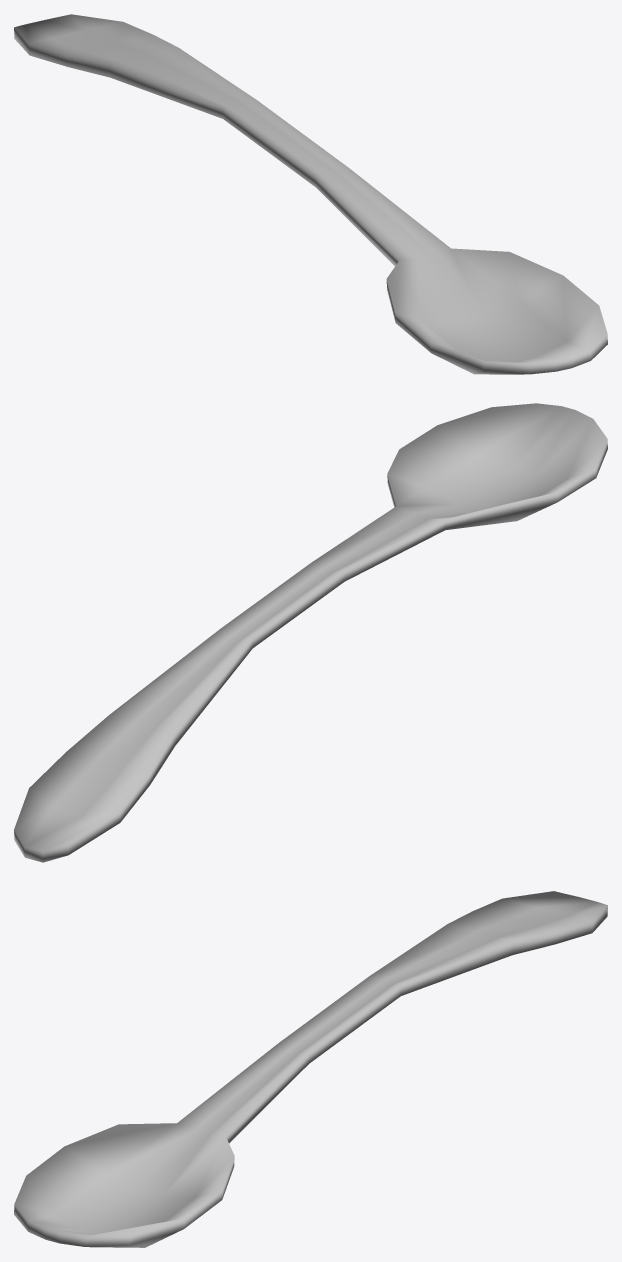
The model's file is Spoon.fbx.
3 views of the same model, one above another, from view 1: azimuth 30°, elevation 25°; view 2: azimuth 150°, elevation 25°; view 3: azimuth 330°, elevation 25° (orthographic).
Visible parts, largest first — view 1: Spoon; view 2: Spoon; view 3: Spoon.
Boxes of the visible parts, bbox=[...] form: Spoon: bbox=[14, 14, 607, 374]; Spoon: bbox=[14, 403, 607, 862]; Spoon: bbox=[14, 891, 607, 1247].
Size of the model in its own units: 0.0149 by 0.00686 by 0.0834.
Materials: 1 (1 with a texture image).
